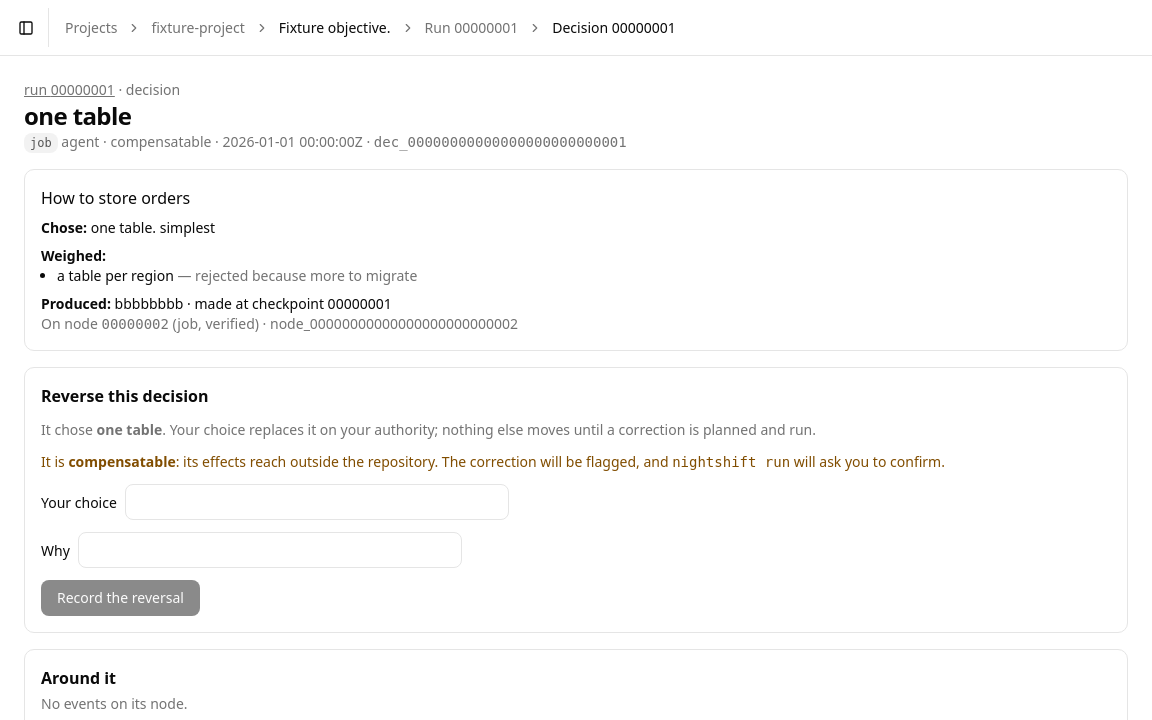
Scenario: the decision page › records a reversal exactly as the CLI's builder does, and shows the next step
Expected: the heading "one table" is shown, left=24, top=99, right=131, bottom=132
Expected: the text "— rejected because more to migrate" is shown, left=174, top=266, right=417, bottom=285
In the field labelled "Your choice": (317, 502) left=125, top=484, right=509, bottom=520, type "a table per region"
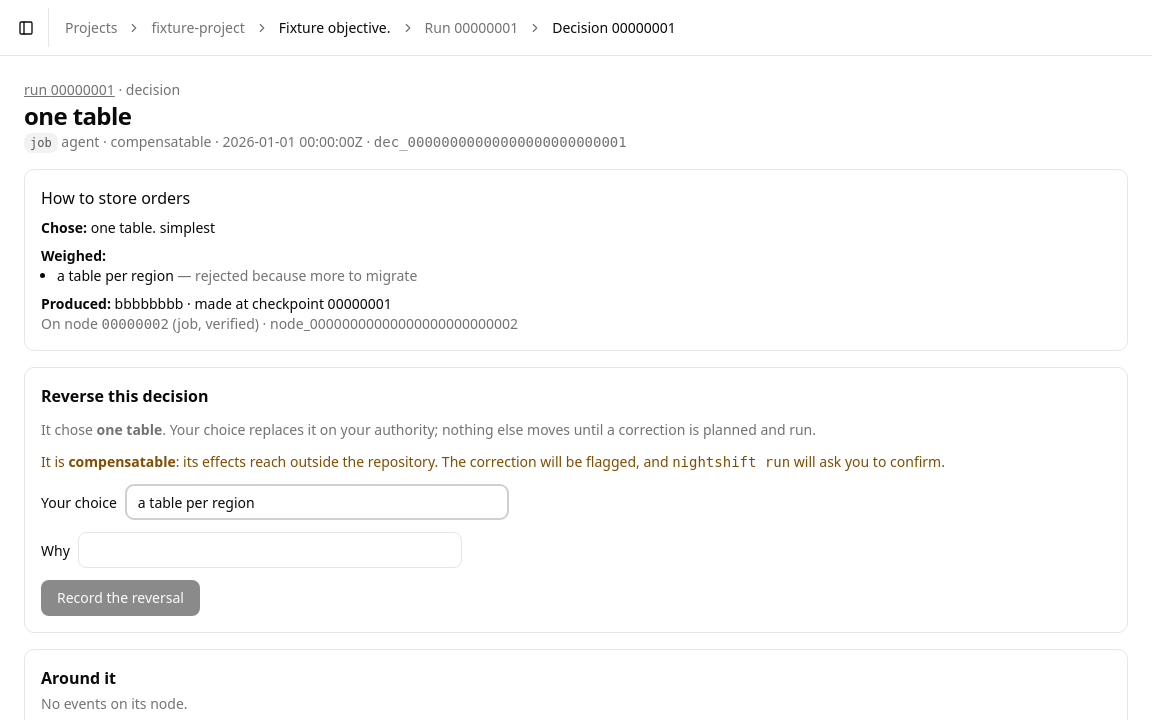
In the field labelled "Why": (270, 550) left=78, top=532, right=462, bottom=568, type "regions will diverge"
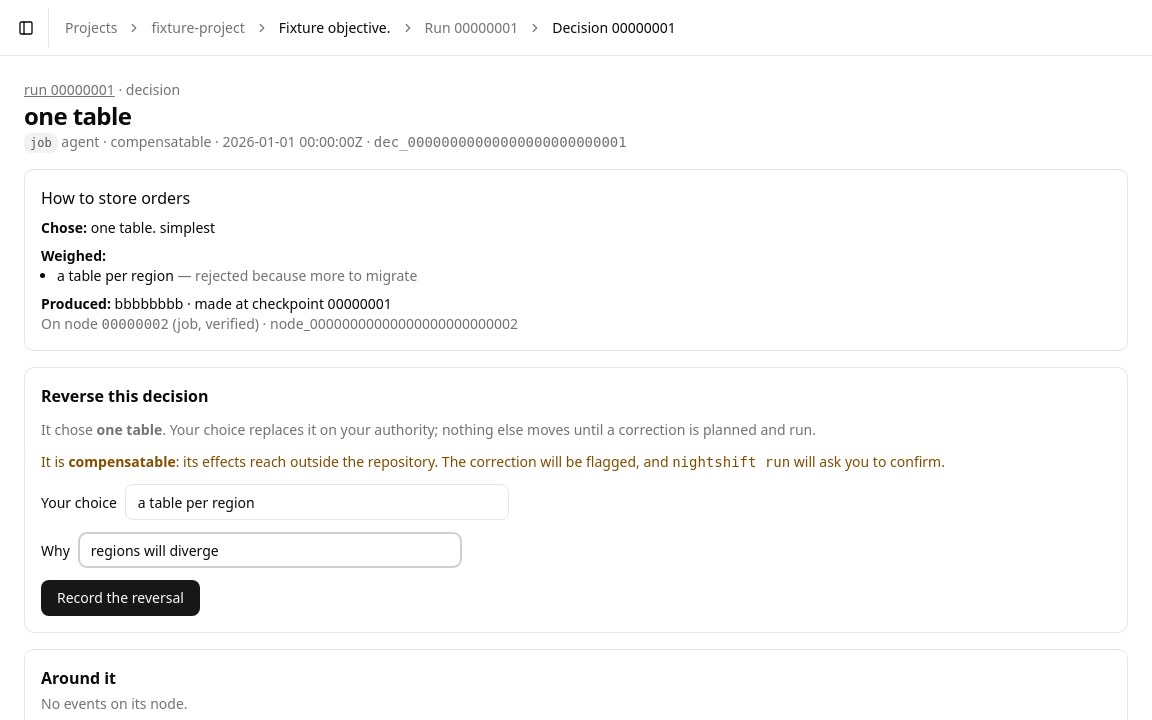
Click the button "Record the reversal": (120, 598) left=41, top=580, right=200, bottom=616
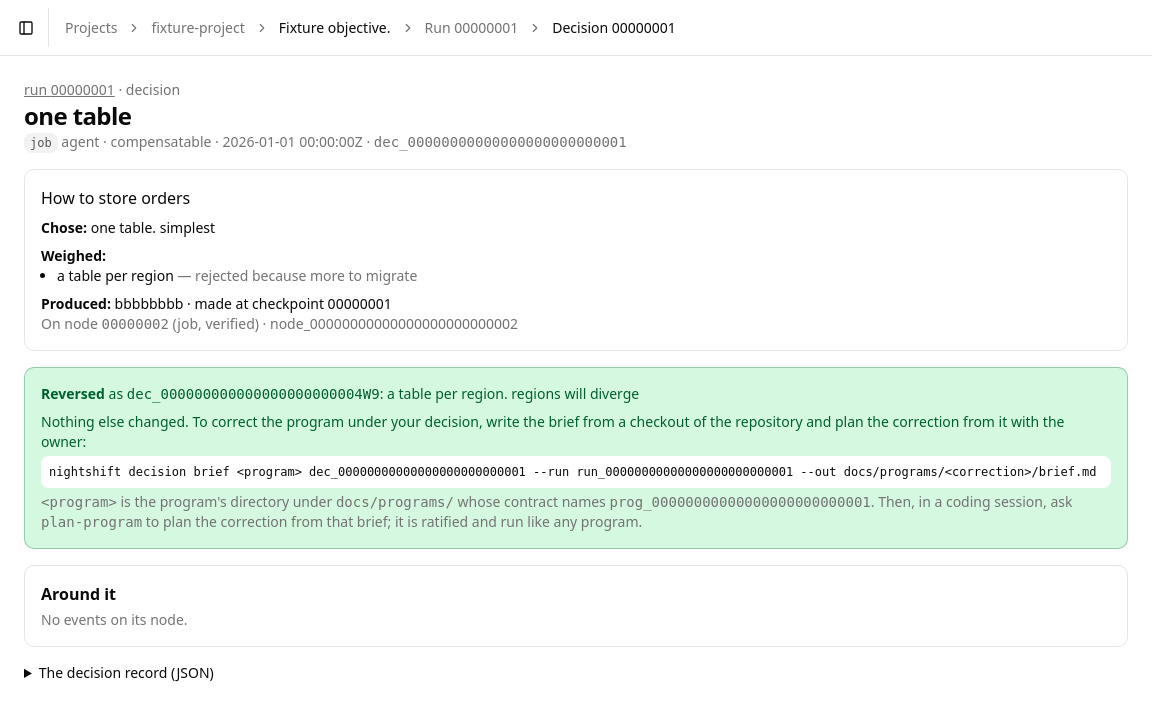
Expected: the element with test id "next-step" is shown, left=24, top=367, right=1128, bottom=549
